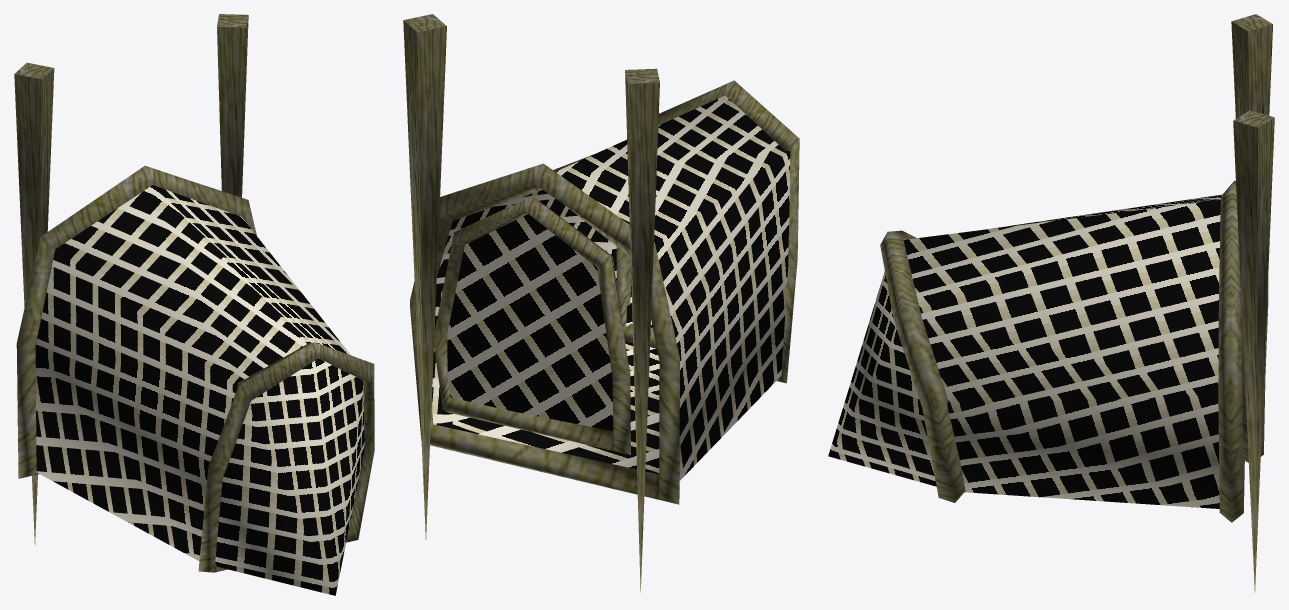
File: trap_closed.obj
The picture shows the model from 3 angles, left to right: view 1: azimuth 30°, elevation 25°; view 2: azimuth 150°, elevation 25°; view 3: azimuth 270°, elevation 25°; orthographic projection. The views are drawn at different scales.
Visible parts, largest first — view 1: Duplicate01, Duplicate02, Duplicate04, Box01; view 2: Duplicate01, Duplicate02, Cylinder01, Box01, Duplicate04; view 3: Duplicate01, Duplicate02, Duplicate04, Box01.
Part boxes in pixels (left/top/right/bottom): Duplicate01: left=35, top=14, right=364, bottom=595; Duplicate02: left=16, top=165, right=364, bottom=594; Duplicate04: left=198, top=342, right=374, bottom=572; Box01: left=14, top=62, right=54, bottom=545; Duplicate01: left=403, top=14, right=790, bottom=539; Duplicate02: left=410, top=99, right=790, bottom=504; Cylinder01: left=447, top=214, right=613, bottom=431; Box01: left=625, top=68, right=659, bottom=592; Duplicate04: left=616, top=80, right=799, bottom=383; Duplicate01: left=828, top=110, right=1274, bottom=592; Duplicate02: left=829, top=180, right=1268, bottom=522; Duplicate04: left=880, top=230, right=965, bottom=502; Box01: left=1231, top=14, right=1272, bottom=118.
Bounding box in the file's own units: 24.07 × 43.89 × 37.13.
